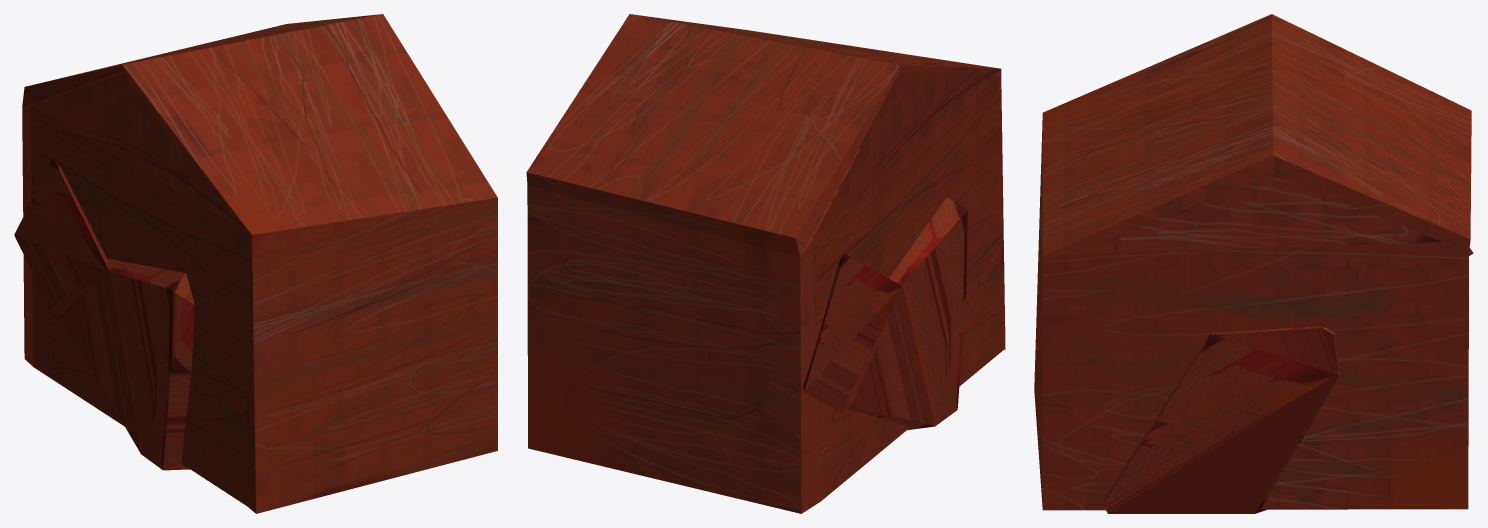
The model's file is barn_broken.fbx_Scene.fbx.
3 renders of one model, left to right at view 1: azimuth 30°, elevation 25°; view 2: azimuth 150°, elevation 25°; view 3: azimuth 270°, elevation 25°, orthographic. The views are drawn at different scales.
Parts seen in each view (by area): view 1: Cube_cell.011, Cube_cell.005, Cube_cell.014, Cube_cell, Cube_cell.007, Cube_cell.001, Cube_cell.021, Cube_cell.009, Cube_cell.003, Cube_cell.013, Cube_cell.020, Cube_cell.015 (+4 smaller); view 2: Cube_cell.007, Cube_cell.006, Cube_cell.017, Cube_cell.014, Cube_cell, Cube_cell.011, Cube_cell.019, Cube_cell.005, Cube_cell.009, Cube_cell.021, Cube_cell.013, Cube_cell.003 (+3 smaller); view 3: Cube_cell.011, Cube_cell.019, Cube_cell, Cube_cell.016, Cube_cell.007, Cube_cell.010, Cube_cell.005, Cube_cell.006, Cube_cell.015, Cube_cell.001.
Boxes of the visible parts, bbox=[...] form: Cube_cell.011: bbox=[58, 14, 497, 507]; Cube_cell.005: bbox=[27, 34, 497, 513]; Cube_cell.014: bbox=[57, 65, 194, 272]; Cube_cell: bbox=[60, 174, 243, 470]; Cube_cell.007: bbox=[22, 25, 497, 513]; Cube_cell.001: bbox=[243, 279, 439, 420]; Cube_cell.021: bbox=[186, 160, 388, 351]; Cube_cell.009: bbox=[14, 158, 108, 315]; Cube_cell.003: bbox=[181, 367, 253, 505]; Cube_cell.013: bbox=[24, 311, 124, 426]; Cube_cell.020: bbox=[192, 305, 249, 416]; Cube_cell.015: bbox=[379, 419, 497, 465]; Cube_cell.007: bbox=[526, 65, 1005, 386]; Cube_cell.006: bbox=[527, 204, 705, 431]; Cube_cell.017: bbox=[589, 329, 838, 510]; Cube_cell.014: bbox=[739, 65, 955, 278]; Cube_cell: bbox=[801, 148, 968, 430]; Cube_cell.011: bbox=[527, 14, 1004, 344]; Cube_cell.019: bbox=[602, 14, 884, 123]; Cube_cell.005: bbox=[526, 51, 1005, 343]; Cube_cell.009: bbox=[803, 253, 901, 412]; Cube_cell.021: bbox=[946, 67, 1001, 205]; Cube_cell.013: bbox=[787, 409, 910, 513]; Cube_cell.003: bbox=[959, 255, 1005, 386]; Cube_cell.011: bbox=[1034, 14, 1470, 510]; Cube_cell.019: bbox=[1149, 55, 1386, 332]; Cube_cell: bbox=[1102, 207, 1384, 513]; Cube_cell.016: bbox=[1042, 220, 1210, 502]; Cube_cell.007: bbox=[1042, 14, 1471, 399]; Cube_cell.010: bbox=[1261, 376, 1468, 509]; Cube_cell.005: bbox=[1034, 15, 1428, 506]; Cube_cell.006: bbox=[1335, 243, 1468, 419]; Cube_cell.015: bbox=[1039, 436, 1105, 510]; Cube_cell.001: bbox=[1039, 164, 1042, 429].
Size of the model in its own units: 793 by 1022 by 1100.
1 material, 1 textured.
